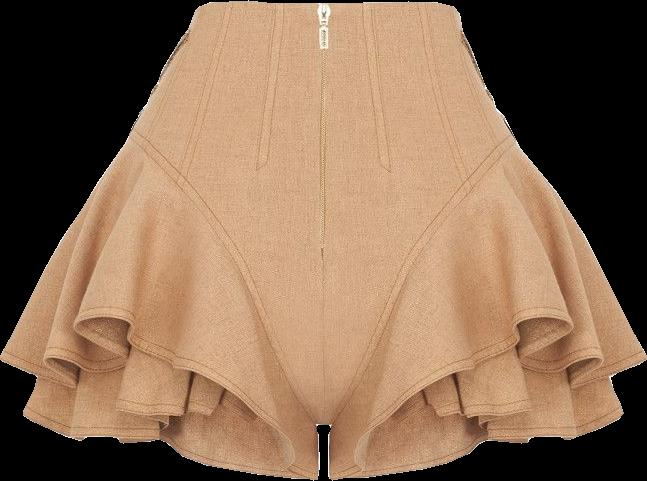Hemline: (0, 314, 320, 480), (327, 314, 646, 480), (325, 411, 622, 480), (21, 411, 317, 480)
Pantleg: (318, 2, 646, 480), (0, 1, 323, 479)
Waistline: (127, 133, 319, 427), (328, 138, 516, 428), (195, 0, 455, 13)
